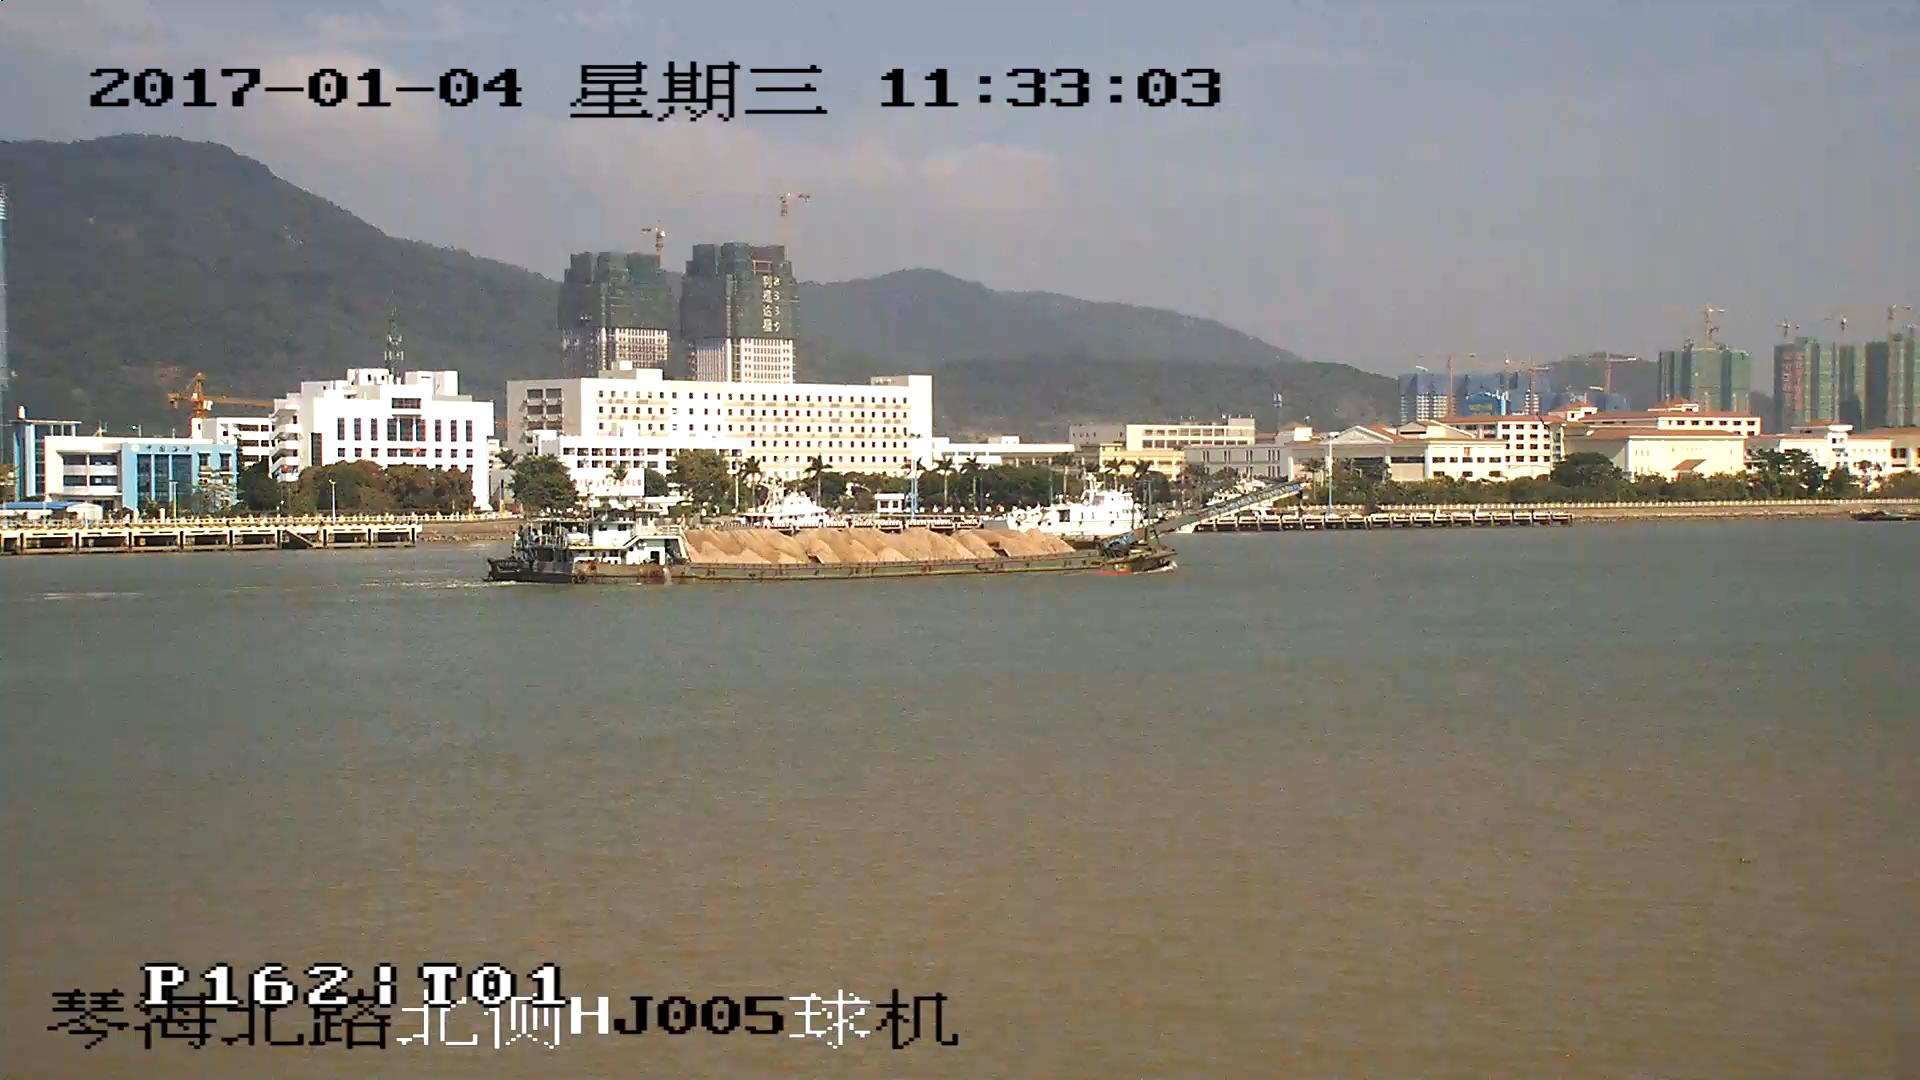ore carrier: (489, 477, 1302, 591)
